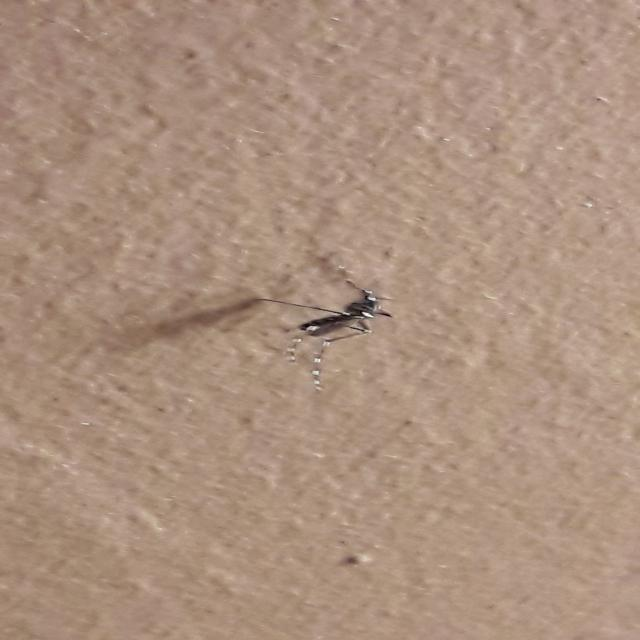albopictus: (248, 274, 408, 396)
